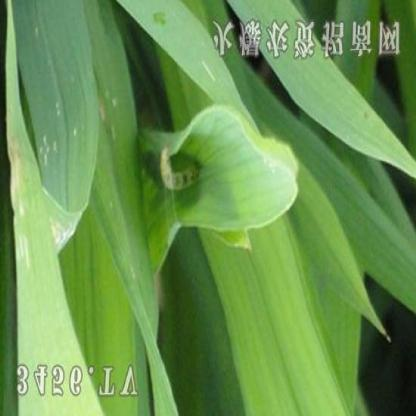leaf-folder: (144, 126, 212, 210)
